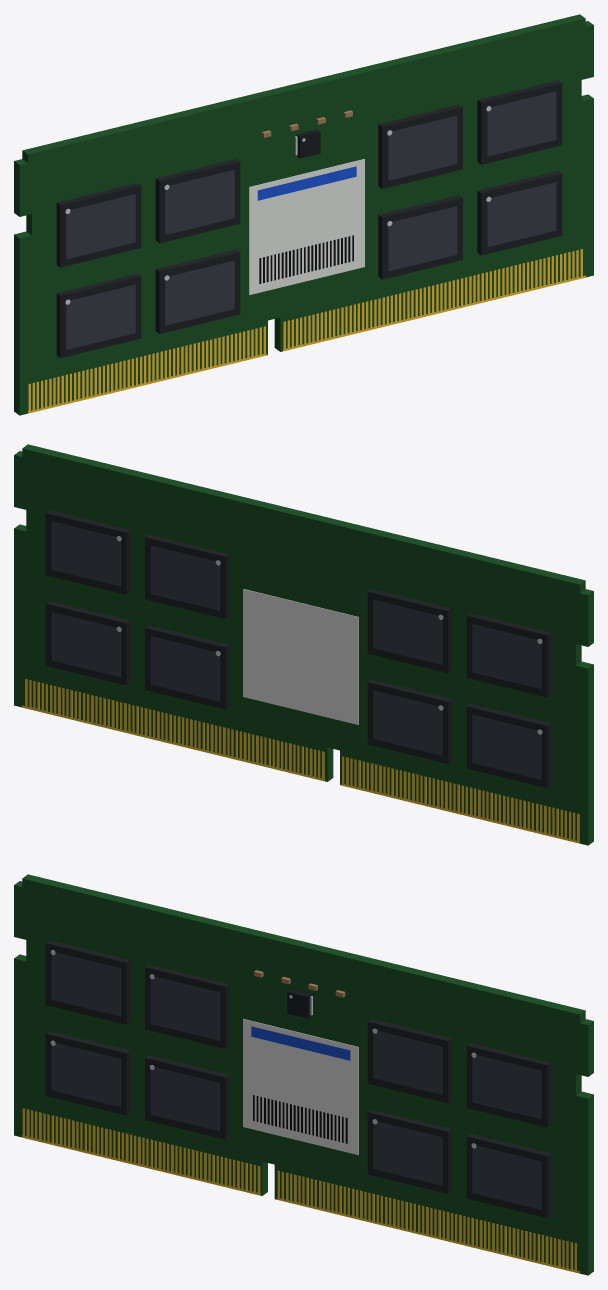
File: DDR4_32GB_SODIMM_LAPTOP.obj
3 renders of one model, top to bottom at view 1: azimuth 30°, elevation 25°; view 2: azimuth 150°, elevation 25°; view 3: azimuth 330°, elevation 25°, orthographic.
Bounding box in the file's own units: 69.6 × 30 × 3.15.
